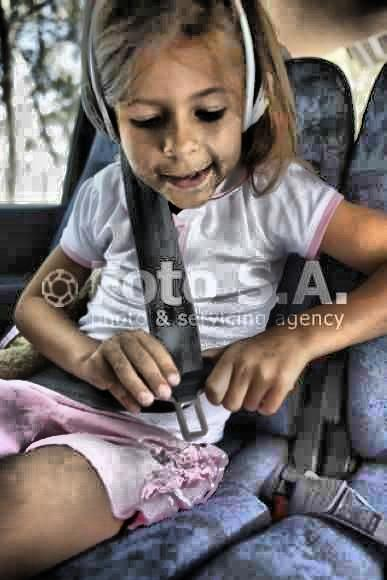seatbelt: (105, 132, 218, 461)
